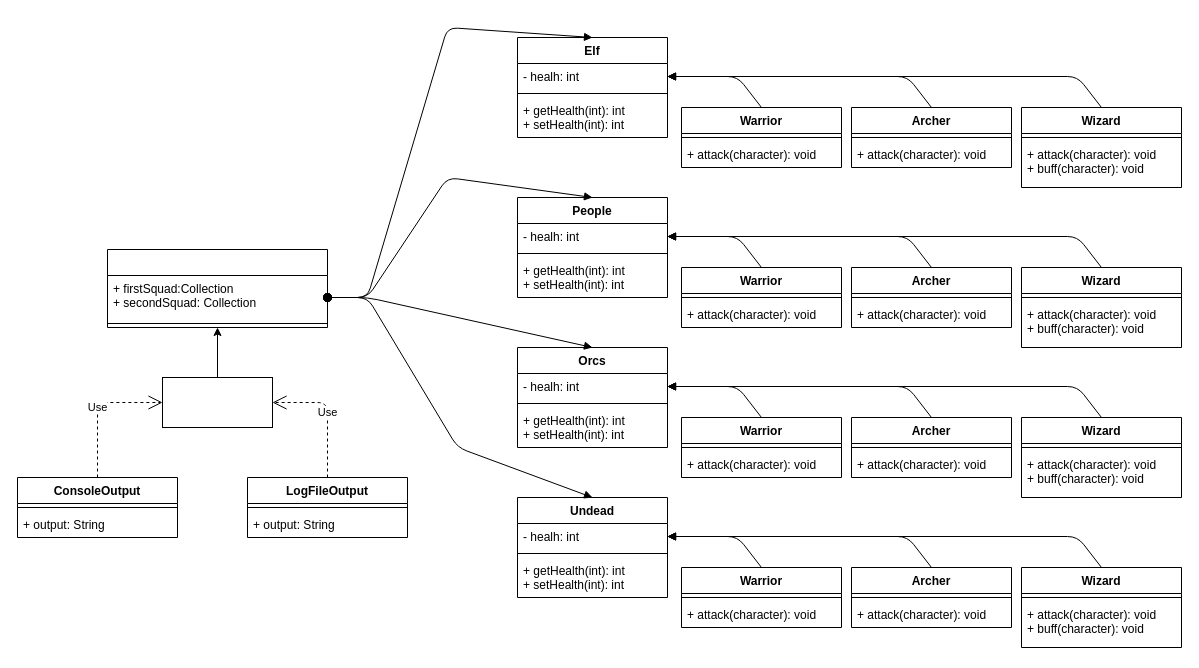
This 1199x668 diagram has some shape labels left out. The box of each missing label's shape, as (x1, y1, x2, y2) in pixels:
Arena: (106, 248, 328, 328)
«interface» Output: (162, 376, 272, 428)
